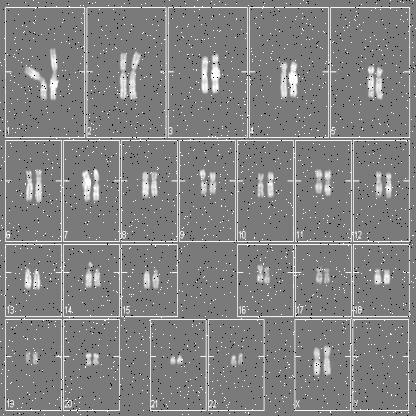1: (22, 64, 48, 103), (49, 46, 60, 103)
10: (256, 170, 266, 199), (266, 170, 274, 198)
11: (323, 169, 332, 200), (314, 167, 322, 198)
12: (384, 171, 394, 202), (374, 170, 384, 200)
13: (22, 266, 34, 290), (33, 268, 41, 291)
14: (85, 260, 93, 289), (93, 266, 101, 289)
15: (142, 268, 151, 292), (152, 268, 161, 292)
16: (256, 262, 264, 286), (264, 266, 271, 286)
17: (314, 265, 324, 286), (323, 268, 332, 288)
18: (373, 266, 382, 286), (382, 268, 392, 286)
19: (32, 348, 38, 366), (24, 350, 30, 364)
2: (130, 51, 142, 102), (118, 51, 128, 101)
20: (93, 350, 100, 370), (86, 350, 92, 368)
21: (168, 354, 177, 368), (177, 352, 184, 370)
22: (230, 354, 237, 368), (238, 352, 244, 368)
3: (200, 54, 210, 96), (211, 53, 221, 95)
4: (289, 61, 298, 100), (280, 60, 288, 100)
5: (366, 62, 375, 100), (376, 66, 384, 102)
6: (34, 169, 44, 203), (25, 169, 35, 202)
7: (92, 168, 102, 204), (82, 168, 92, 203)
8: (150, 168, 158, 199), (142, 169, 150, 199)
9: (198, 168, 208, 198), (208, 170, 218, 198)
X: (322, 343, 333, 378), (314, 344, 322, 378)
